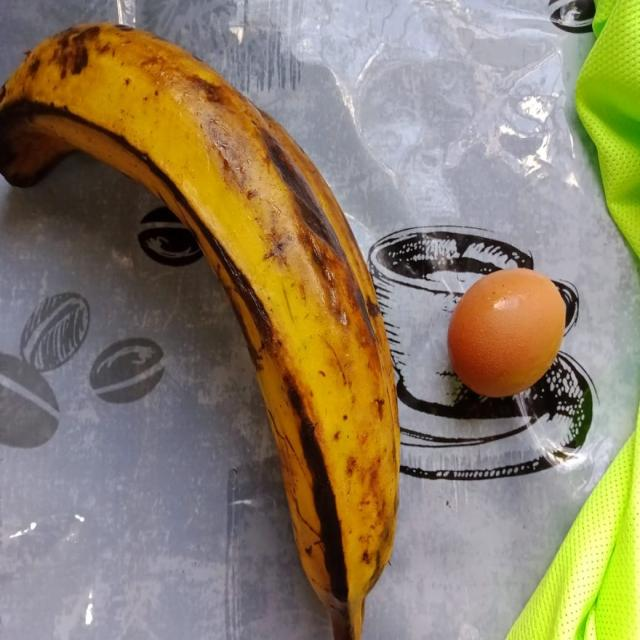huevos: (446, 265, 570, 405)
platano: (3, 2, 412, 633)
